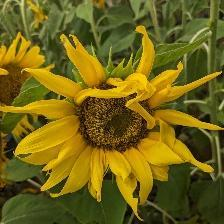sunflower: (1, 23, 224, 221)
